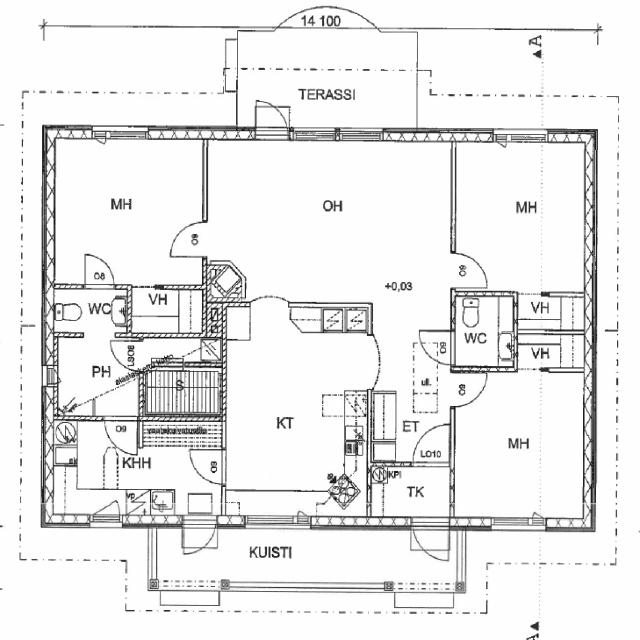door: (409, 518, 452, 566), (410, 421, 451, 465), (451, 247, 492, 288), (167, 217, 207, 258), (180, 514, 218, 557), (102, 414, 140, 456), (79, 249, 119, 288), (253, 99, 290, 138), (417, 328, 454, 366), (454, 369, 489, 408), (188, 447, 224, 484), (92, 126, 110, 148), (492, 131, 510, 150), (292, 510, 312, 527)
window: (240, 512, 307, 530), (487, 514, 540, 534), (291, 125, 339, 143), (335, 126, 385, 142), (499, 130, 546, 146), (108, 125, 149, 142), (89, 516, 123, 530), (492, 131, 511, 149)
zone: (238, 141, 449, 307), (224, 312, 369, 500), (49, 134, 206, 282), (451, 364, 594, 525), (452, 138, 597, 296), (50, 331, 136, 417), (369, 462, 454, 520), (452, 293, 516, 370), (50, 286, 130, 338), (126, 286, 204, 336), (512, 330, 585, 369), (514, 294, 584, 334)
